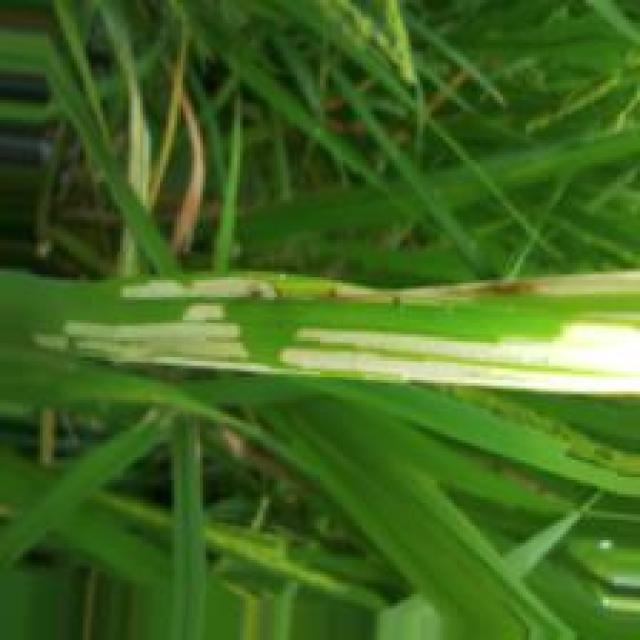Rice_Hispa: (280, 311, 640, 399), (43, 296, 282, 373), (401, 275, 640, 298), (120, 279, 280, 303)
